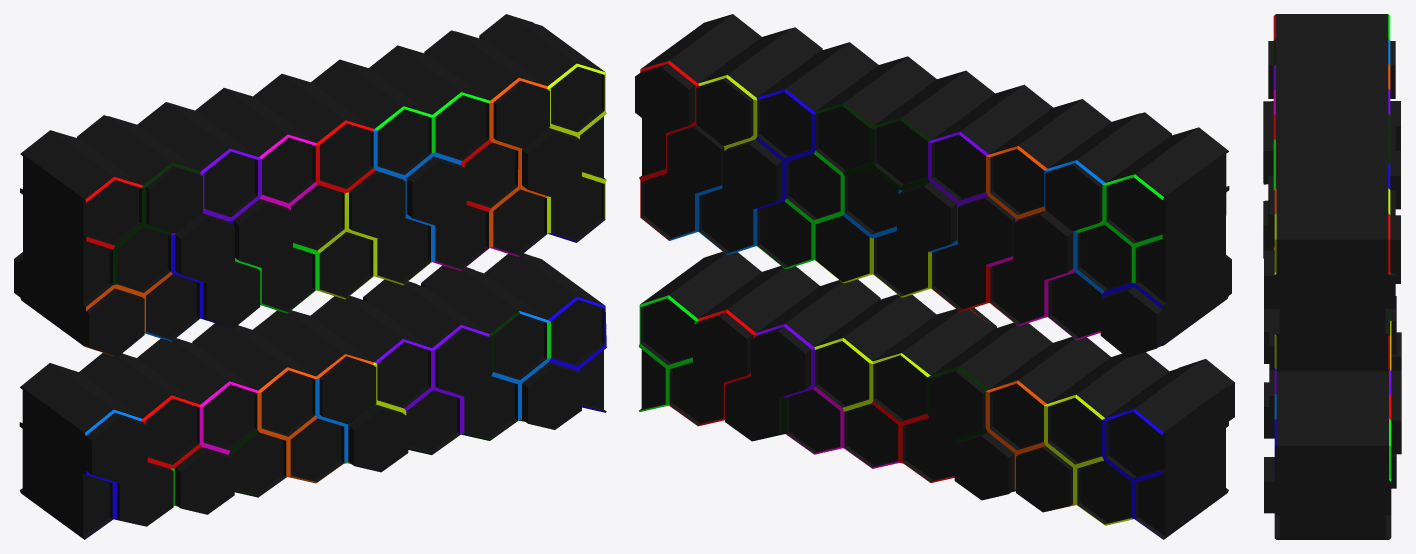
The model's file is P_Modular_Wall_Window.FBX.
The picture shows the model from 3 angles, left to right: view 1: azimuth 30°, elevation 25°; view 2: azimuth 150°, elevation 25°; view 3: azimuth 270°, elevation 25°; orthographic projection. The views are drawn at different scales.
Visible parts, largest first — view 1: Box001; view 2: Box001; view 3: Box001.
Boxes of the visible parts, left/top/right/bottom form: Box001: left=14, top=14, right=606, bottom=539; Box001: left=635, top=14, right=1234, bottom=539; Box001: left=1263, top=14, right=1401, bottom=539.
Size of the model in its own units: 5 by 3.27 by 1.31.
